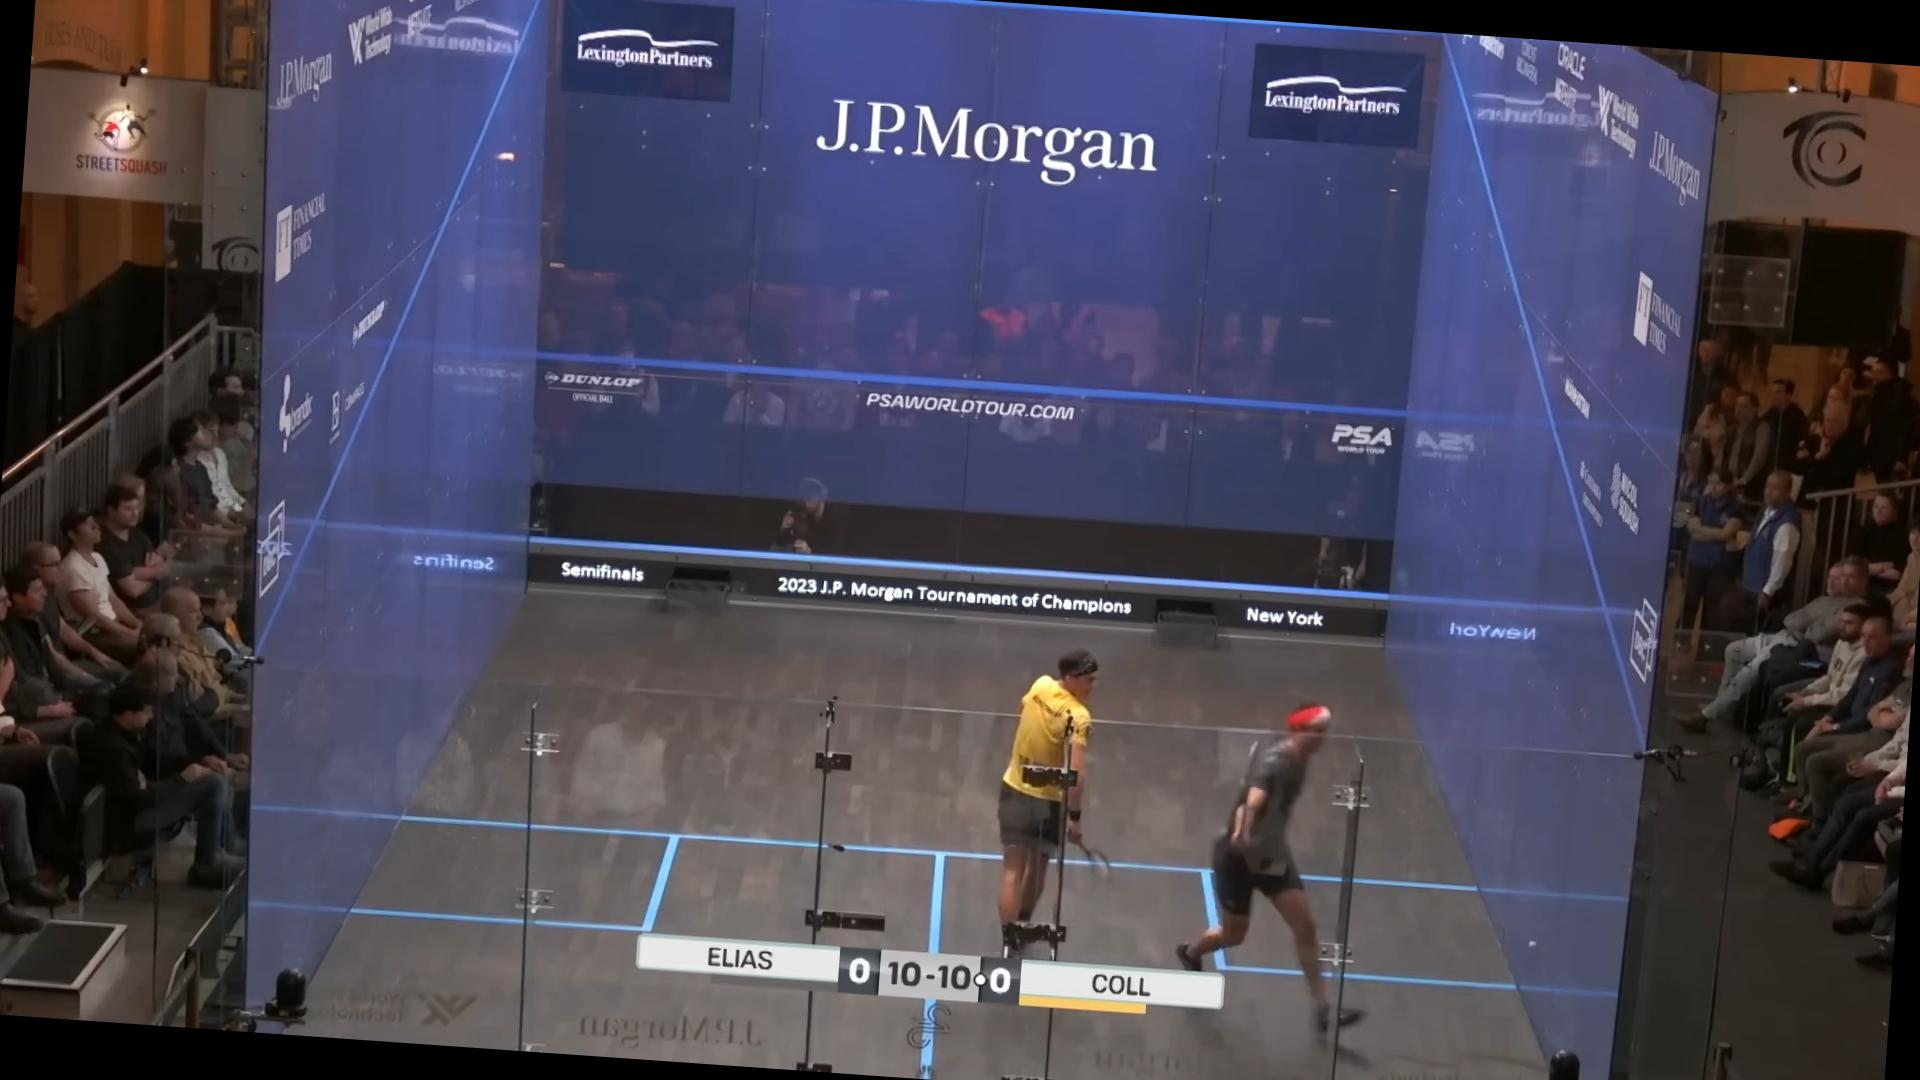Racket: (1060, 831, 1125, 886)
